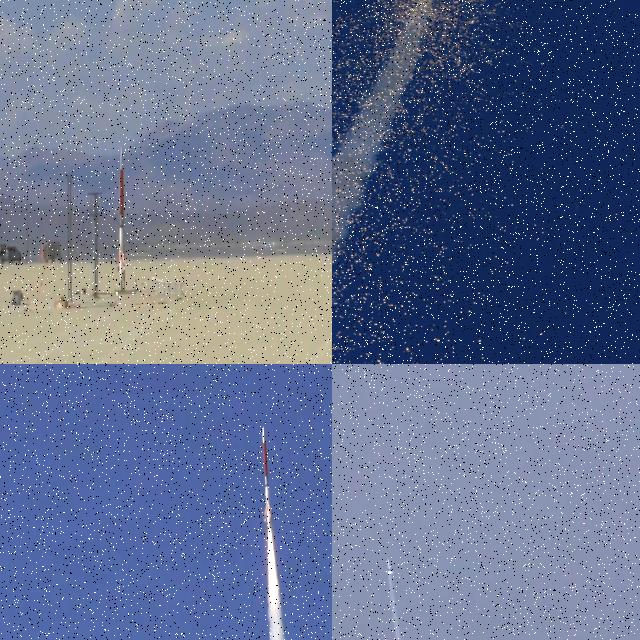Rocket: (116, 148, 127, 284), (262, 427, 273, 527), (386, 559, 392, 575)
